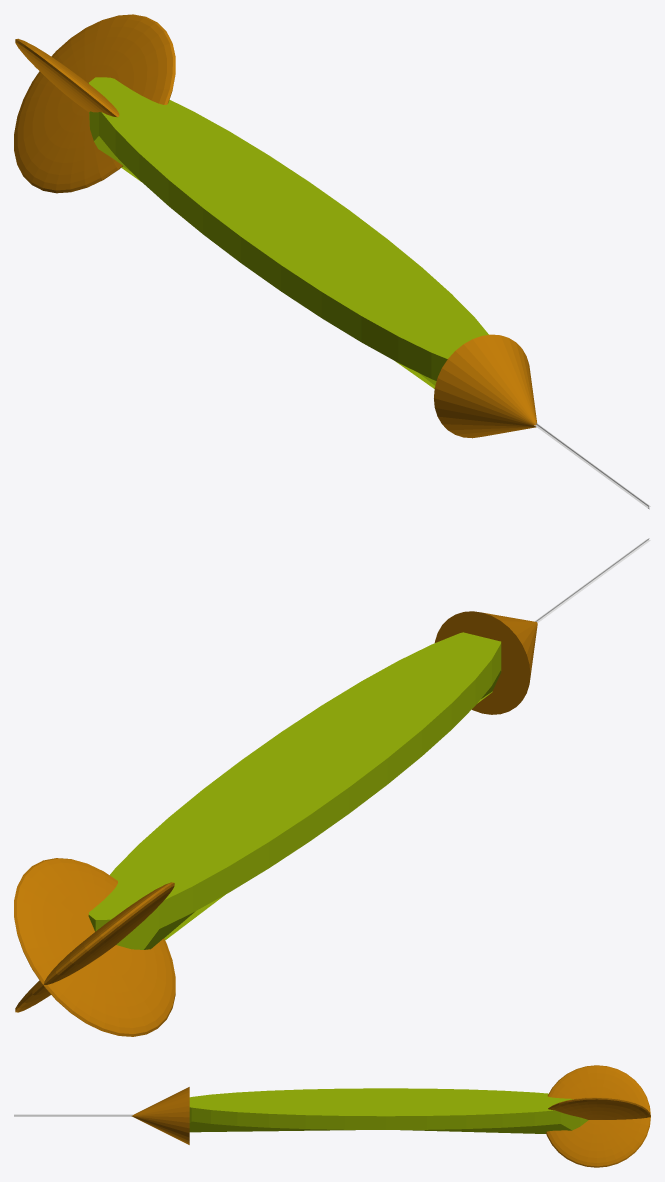
File: DARTFORFISHfbx.fbx
The picture shows the model from 3 angles, top to bottom: view 1: azimuth 30°, elevation 25°; view 2: azimuth 150°, elevation 25°; view 3: azimuth 270°, elevation 25°; orthographic projection. The views are drawn at different scales.
Visible parts, largest first — view 1: Cylinder, Sphere, Cone, Sphere.001; view 2: Cylinder, Sphere, Cone, Sphere.001; view 3: Cylinder, Sphere.001, Cone, Sphere, Plane.001.
Part boxes in pixels (bbox=[...]): Cylinder: bbox=[88, 77, 488, 388]; Sphere: bbox=[14, 14, 175, 193]; Cone: bbox=[434, 334, 536, 438]; Sphere.001: bbox=[15, 38, 119, 117]; Cylinder: bbox=[88, 632, 501, 949]; Sphere: bbox=[14, 858, 175, 1036]; Cone: bbox=[434, 611, 537, 714]; Sphere.001: bbox=[15, 882, 174, 1012]; Cylinder: bbox=[189, 1088, 588, 1133]; Sphere.001: bbox=[546, 1065, 650, 1167]; Cone: bbox=[131, 1087, 189, 1144]; Sphere: bbox=[548, 1097, 650, 1119]; Plane.001: bbox=[14, 1114, 133, 1116].
Size of the model in its own units: 142 by 145 by 1178.
